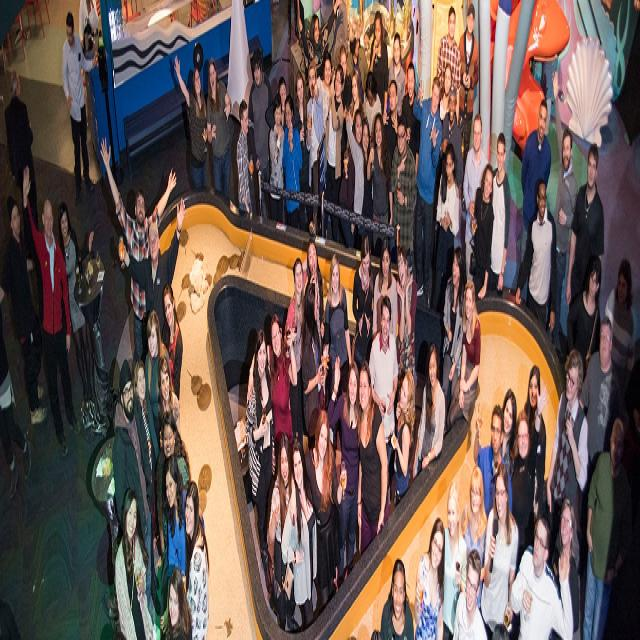body: (100, 134, 178, 380), (20, 163, 82, 459), (577, 312, 622, 634), (112, 357, 156, 637), (581, 416, 632, 640), (118, 195, 186, 357), (302, 407, 347, 636), (545, 347, 589, 570), (502, 508, 574, 638), (7, 197, 47, 427), (56, 198, 94, 416), (326, 354, 361, 590), (550, 67, 578, 354), (510, 381, 550, 579), (280, 436, 318, 634), (132, 355, 160, 616), (61, 6, 99, 197), (143, 307, 172, 557), (246, 310, 298, 448), (564, 139, 605, 314), (244, 325, 274, 563), (479, 460, 519, 638), (412, 74, 442, 308), (520, 96, 552, 304), (515, 178, 557, 336), (356, 358, 389, 557), (113, 482, 155, 638), (0, 302, 31, 502), (368, 292, 399, 490), (323, 0, 421, 61), (324, 250, 352, 458), (445, 276, 481, 434), (160, 451, 188, 637), (300, 282, 330, 452), (173, 51, 209, 192), (565, 250, 602, 384), (411, 342, 446, 482), (474, 402, 512, 530), (283, 256, 308, 450), (456, 2, 479, 210), (158, 408, 191, 552), (604, 256, 636, 403), (296, 0, 342, 101), (248, 45, 274, 221), (548, 496, 580, 638), (463, 112, 489, 283), (183, 478, 210, 640), (435, 140, 460, 314), (389, 116, 416, 274), (442, 243, 464, 435), (460, 462, 488, 612), (268, 430, 294, 589), (413, 515, 445, 640), (442, 480, 467, 638), (523, 363, 547, 525), (4, 67, 34, 195), (489, 128, 511, 298), (206, 58, 232, 200), (324, 62, 344, 245), (338, 106, 363, 251), (305, 58, 325, 238), (390, 366, 416, 504), (469, 162, 494, 304), (395, 242, 418, 396), (452, 547, 488, 640), (292, 70, 312, 232), (366, 112, 393, 230), (436, 3, 461, 130), (352, 232, 374, 376), (281, 93, 303, 232), (380, 557, 415, 640), (372, 235, 398, 346), (342, 106, 362, 250), (304, 236, 324, 378), (382, 77, 401, 224), (161, 280, 183, 402), (439, 83, 464, 189), (368, 8, 390, 126), (156, 352, 182, 450), (400, 59, 421, 179), (80, 0, 99, 130), (268, 91, 285, 226), (236, 98, 254, 216), (264, 74, 295, 140), (166, 565, 193, 640), (338, 43, 352, 179), (387, 30, 406, 121), (499, 384, 518, 475), (346, 66, 364, 152), (315, 50, 333, 136), (363, 69, 382, 150), (0, 0, 3, 494), (346, 36, 369, 94), (438, 59, 453, 128)
